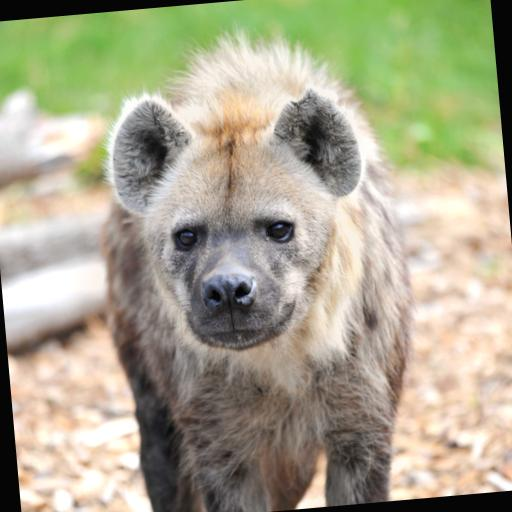hyenas: (34, 25, 494, 512)
